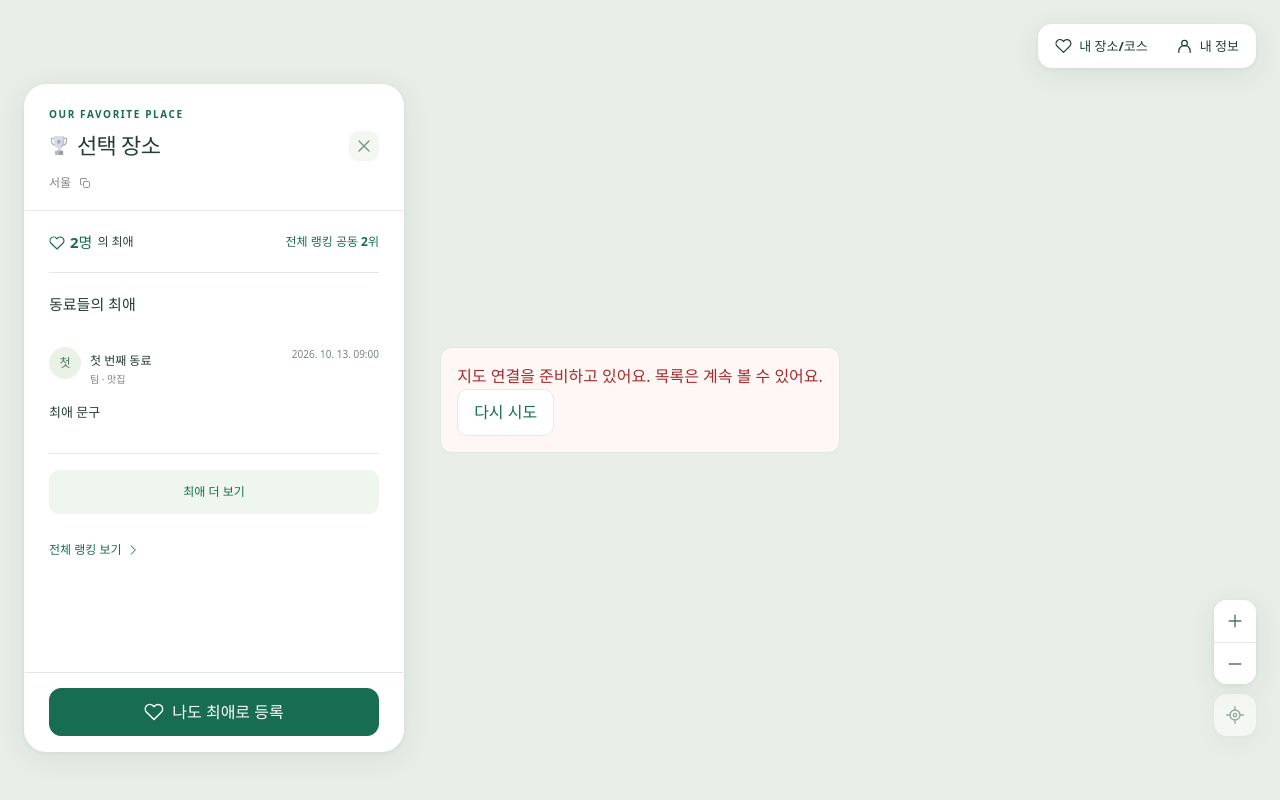
Test: appends target comments using the first snapshot revision
Check: the text "첫 번째 동료" is shown, box x1=90 y1=352 x2=152 y2=369
Click the button "최애 더 보기": {"x": 214, "y": 492} x1=49 y1=470 x2=379 y2=514
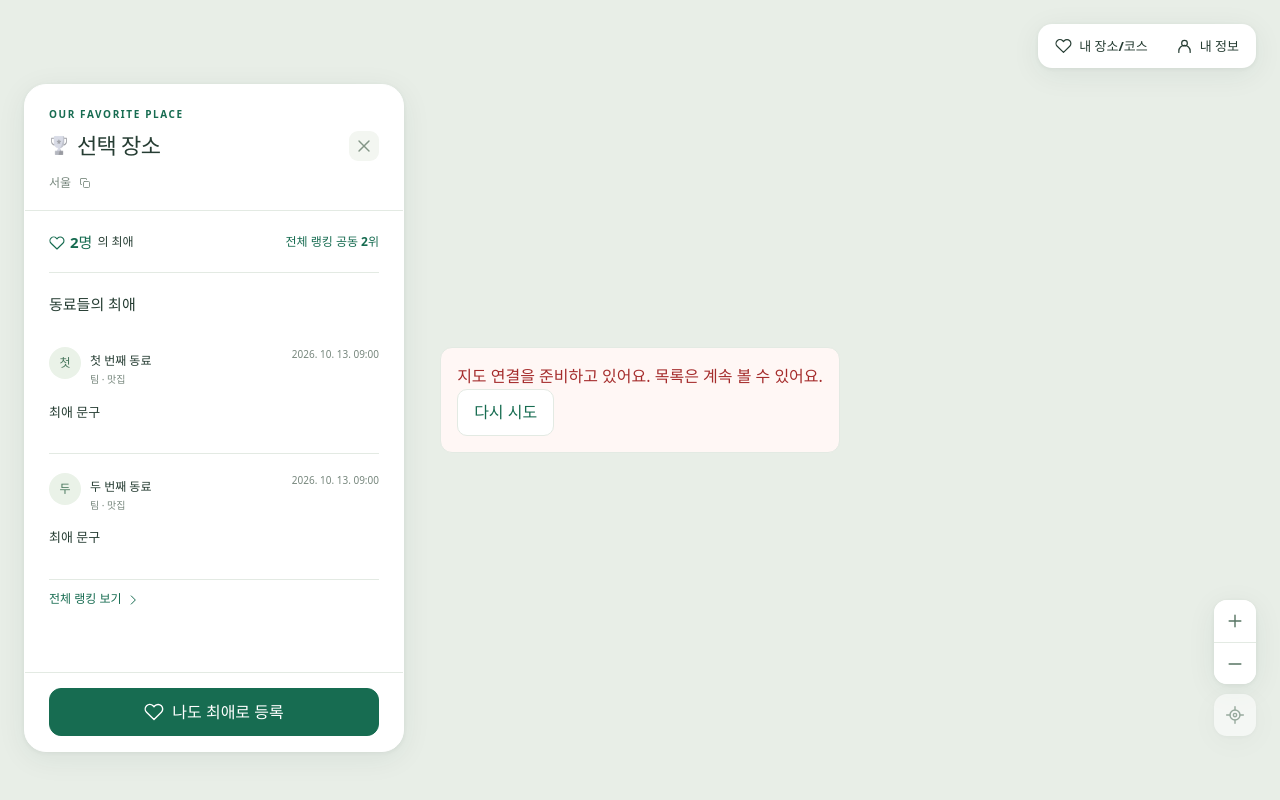
Check: the text "첫 번째 동료" is shown, box x1=90 y1=352 x2=152 y2=369
Check: the text "두 번째 동료" is shown, box x1=90 y1=478 x2=152 y2=495
